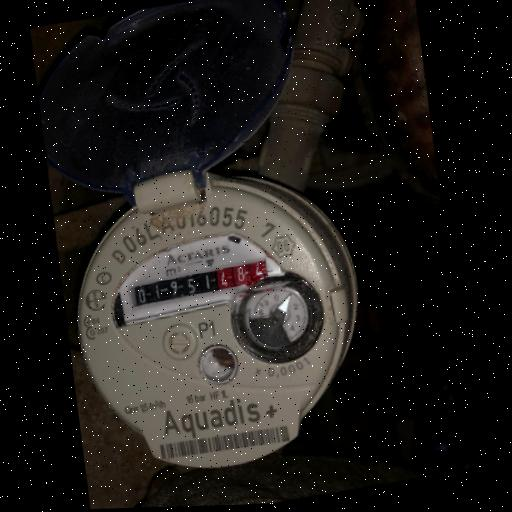0: (133, 284, 154, 306)
1: (199, 269, 220, 292), (149, 280, 169, 302)
4: (249, 259, 270, 285), (216, 267, 237, 289)
5: (183, 273, 203, 296)
8: (233, 263, 253, 289)
9: (165, 276, 187, 299)
border_water_meter_number: (129, 257, 273, 314)
